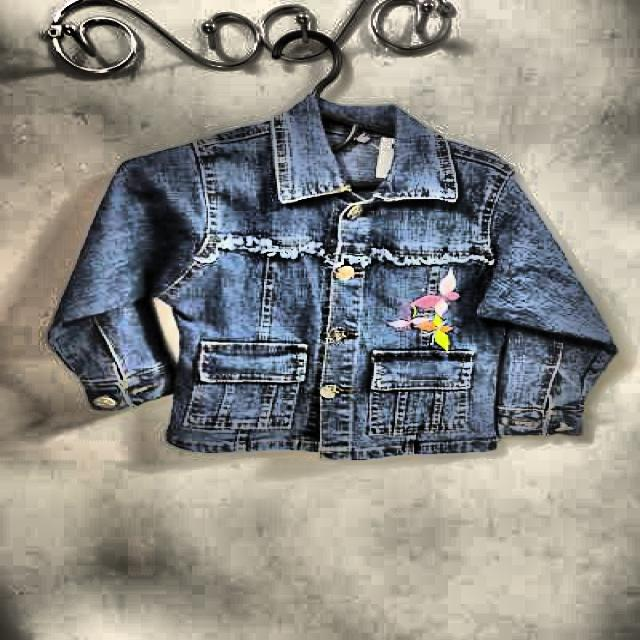clothes: (48, 92, 621, 459)
